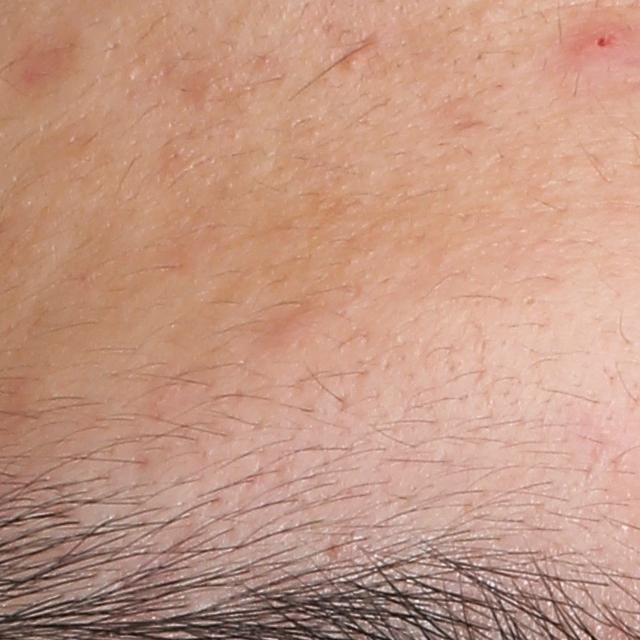papule: (576, 19, 629, 71)
